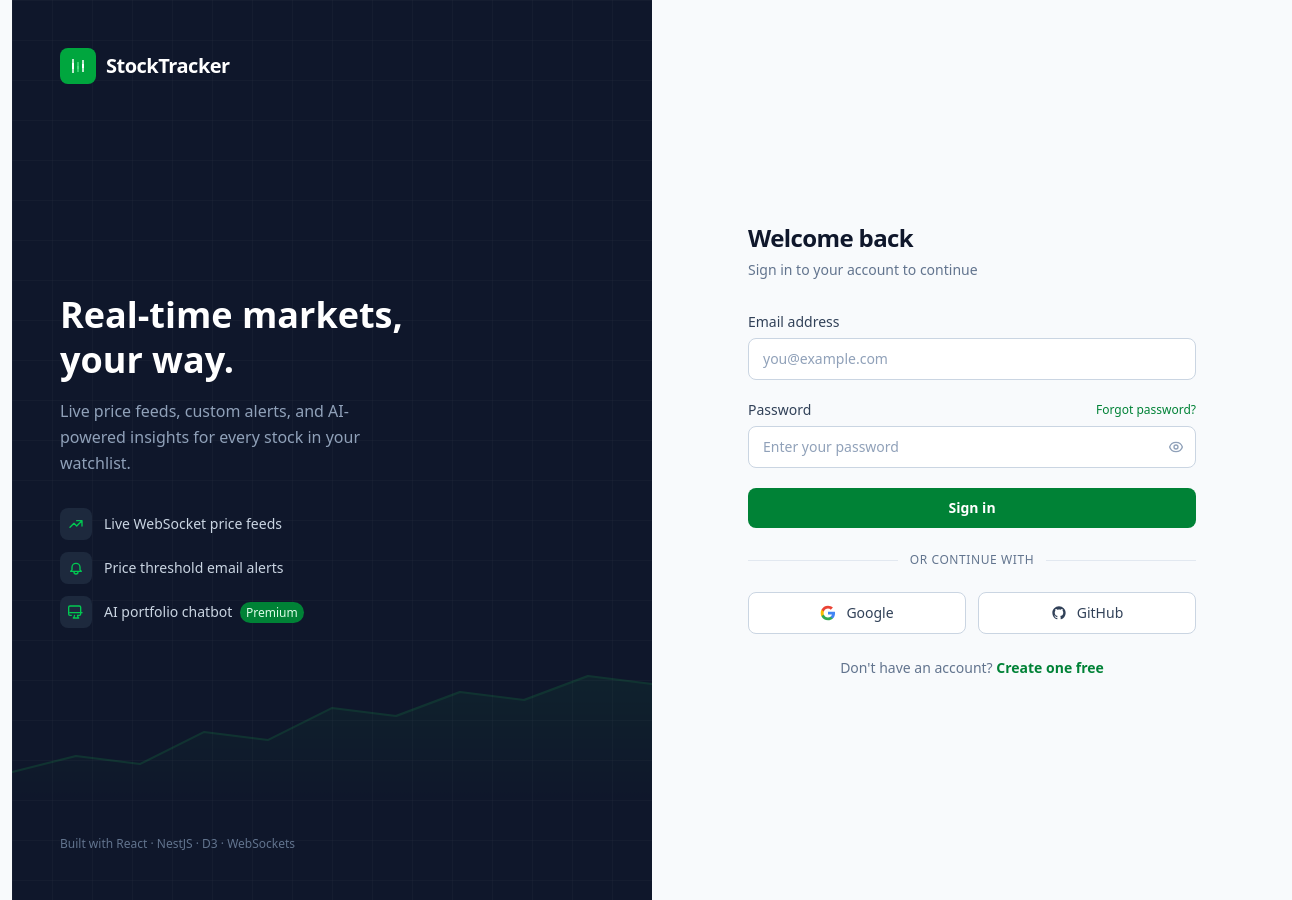
Test: LoginPage › validation › shows email error for invalid email format
This screenshot has width=1292, height=900.
Step 1. Type "not-an-email" into the field labelled "Email address" → coordinates (972, 359), box [748,338,1196,380]
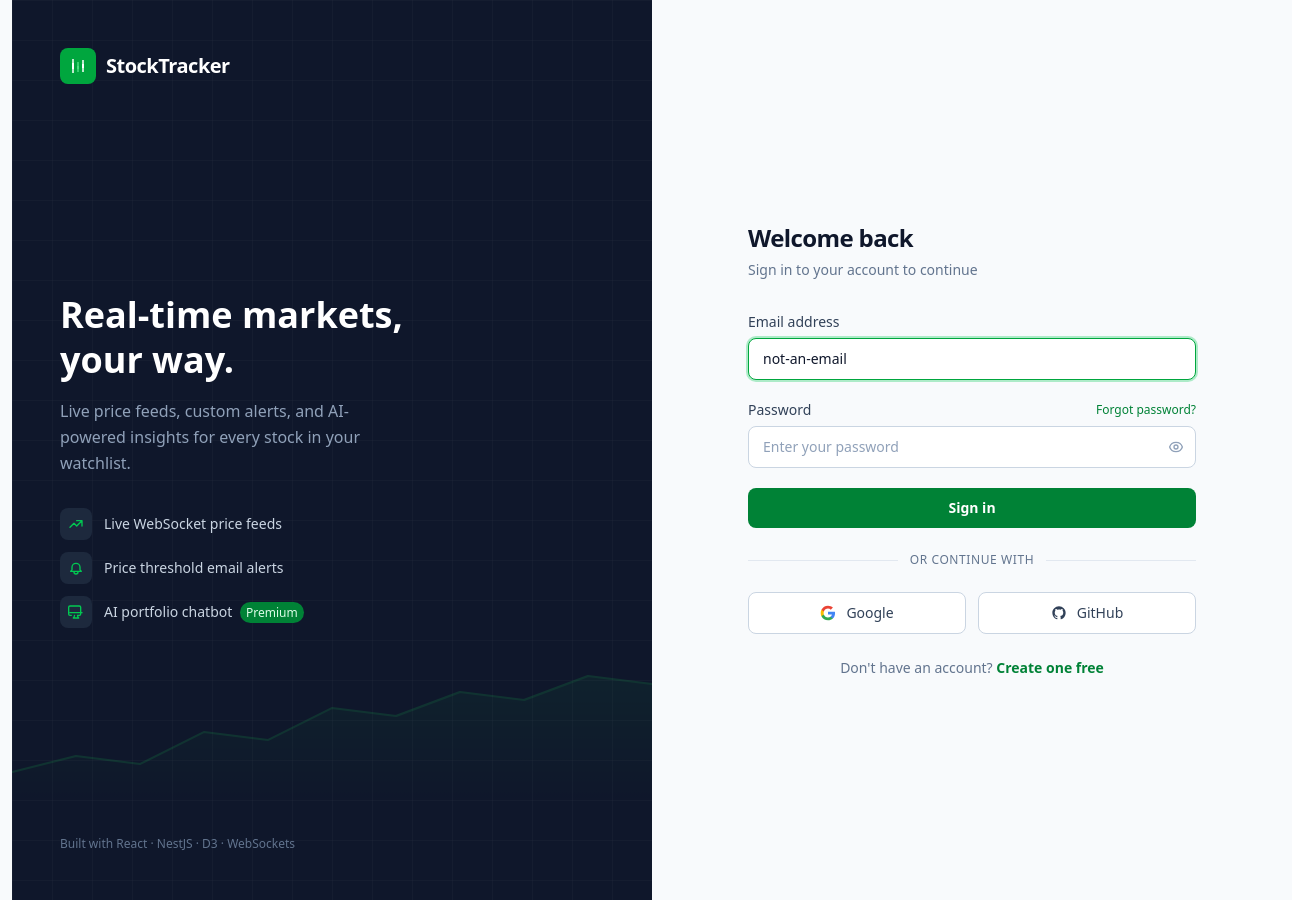
Step 2. Click the button "Sign in" → coordinates (972, 508), box [748,488,1196,528]
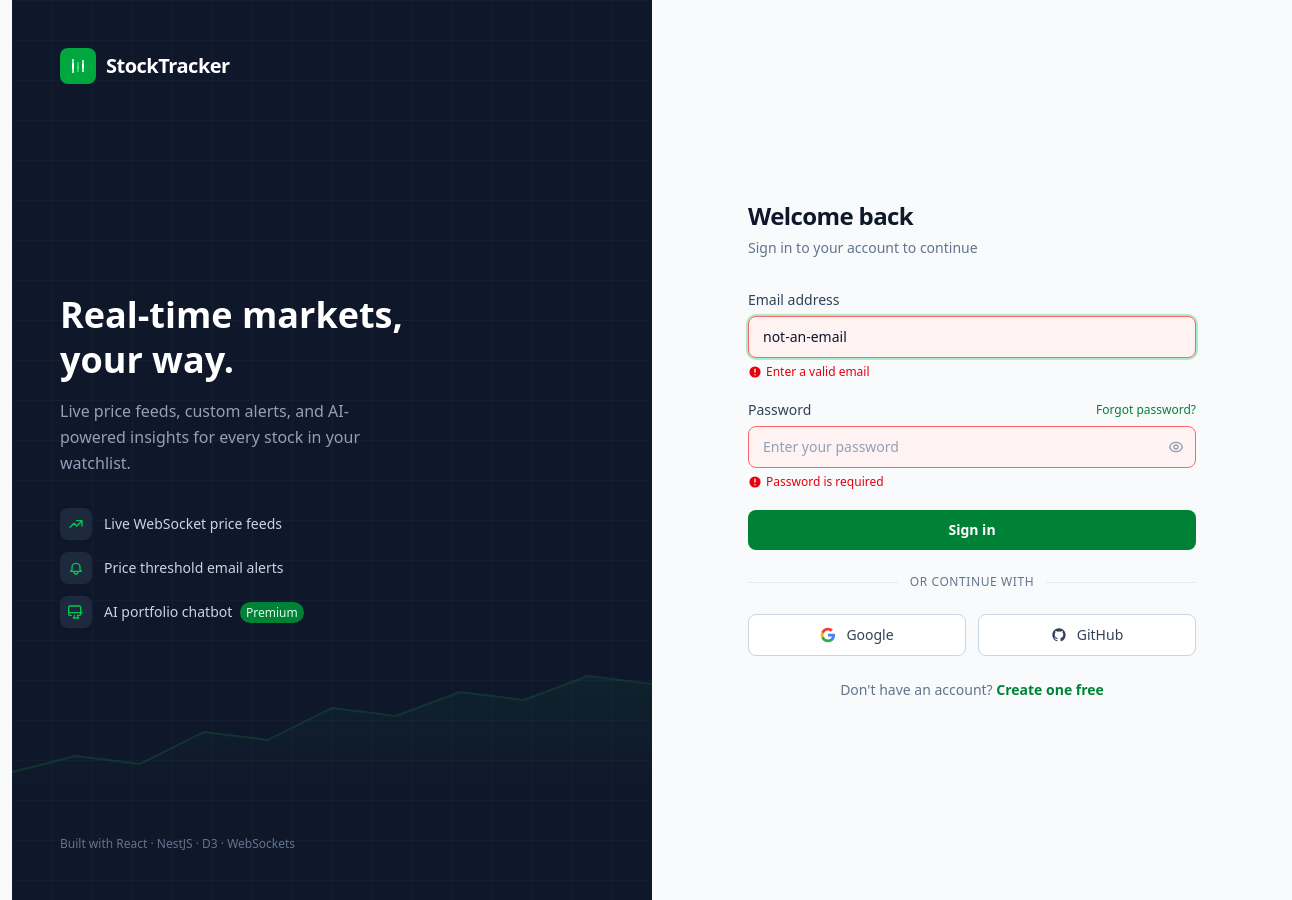
Now the text "Enter a valid email" is shown, box [748,363,870,380]
